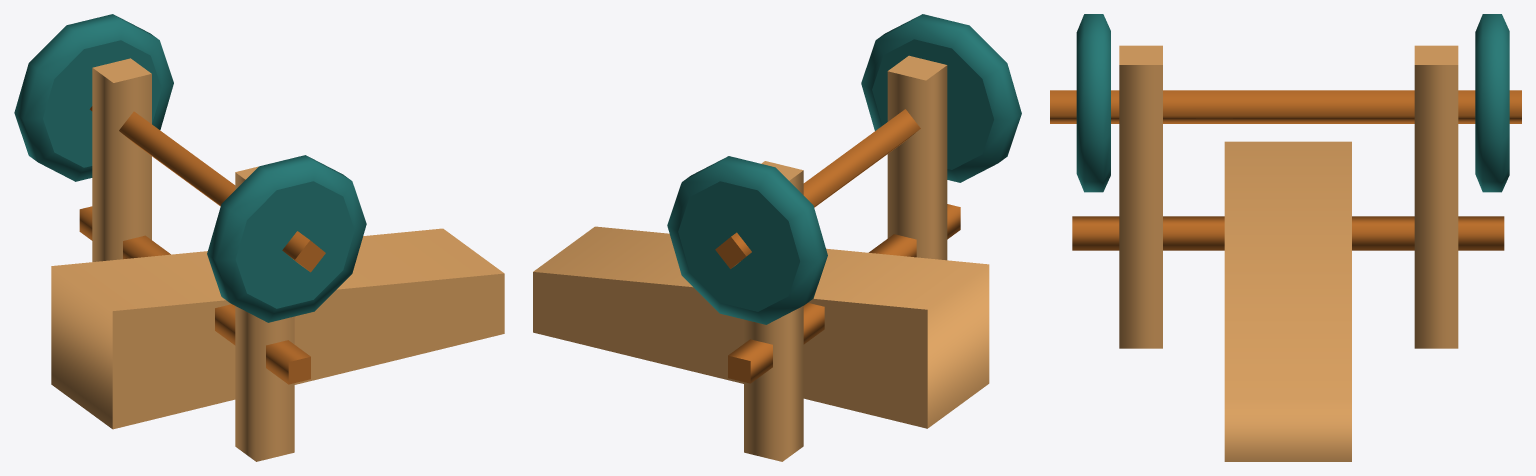
File: SM_Training_Apparatus.fbx
The picture shows the model from 3 angles, left to right: view 1: azimuth 30°, elevation 25°; view 2: azimuth 150°, elevation 25°; view 3: azimuth 270°, elevation 25°; orthographic projection. The views are drawn at different scales.
Parts seen in each view (by area): view 1: SM_Training_Apparatus; view 2: SM_Training_Apparatus; view 3: SM_Training_Apparatus.
Boxes of the visible parts, <box> form: SM_Training_Apparatus: <box>14,14,504,461</box>; SM_Training_Apparatus: <box>533,14,1021,461</box>; SM_Training_Apparatus: <box>1050,14,1521,461</box>.
Bounding box in the file's own units: 262 × 193 × 264.
